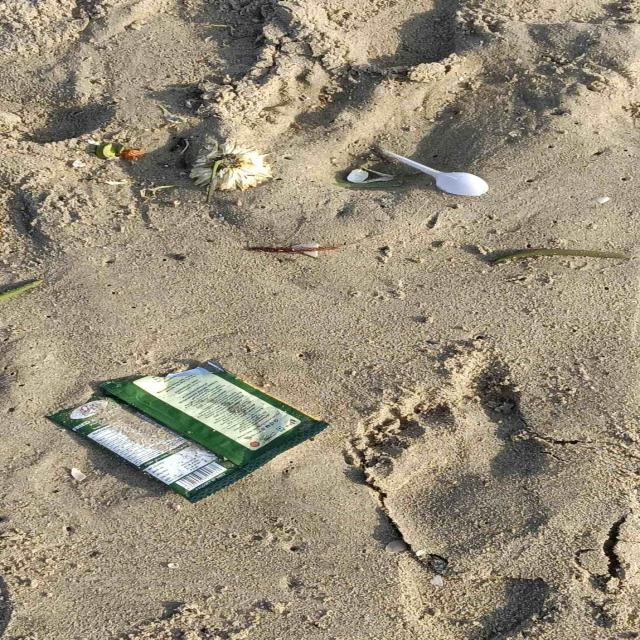giay_goi: (46, 369, 326, 503)
nhua: (377, 148, 488, 195)
rac_huu_co: (188, 140, 271, 202), (493, 248, 632, 263)
